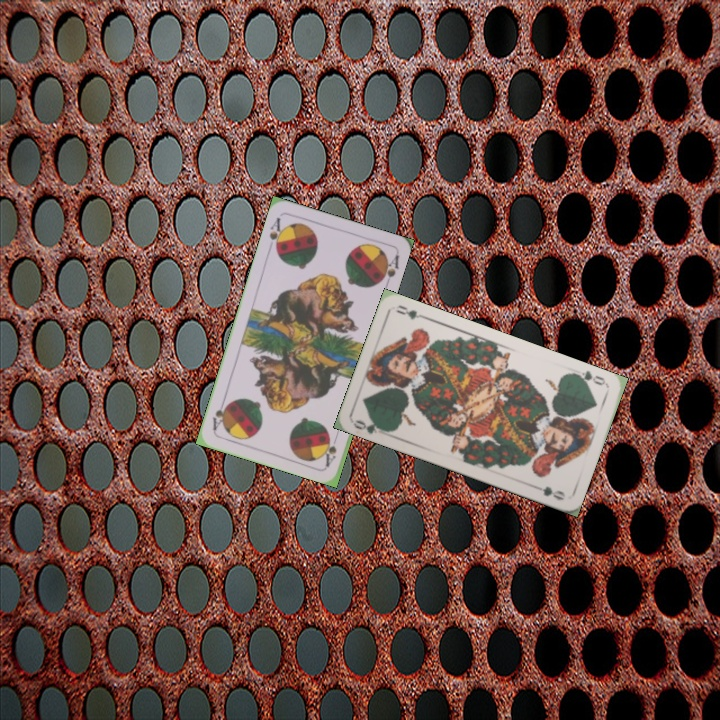GO: (570, 366, 609, 388), (350, 415, 390, 436)
SA: (265, 213, 287, 254), (322, 429, 341, 469)
